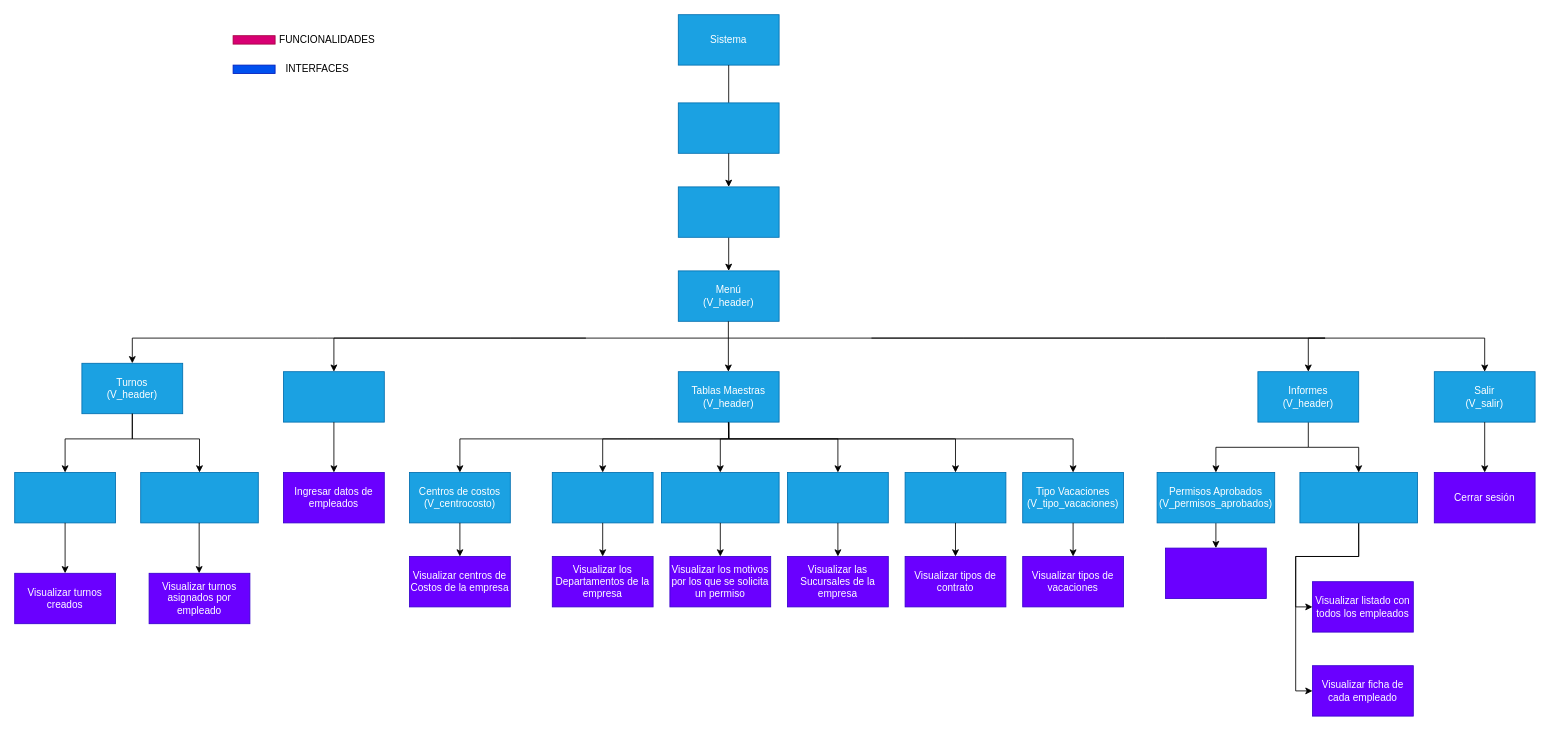
Image size: 1550x731. Some labels were removed from this diagram. Here are the shapes that lost their labels. From the top down, the centre of each, then its label:
point 728,127: Iniciar sesión (V_Index)
point 728,211: Dashboard (V_dashboard)
point 333,396: Ingreso Empleado (V_Ingreso_empleado)
point 65,497: Listado de turnos (V_listadoturnos)
point 199,497: Asignación de turnos (V_asignacion_turnos)
point 602,497: Departamentos (V_departamento)
point 720,497: Motivos de permiso (V_motivo_permisos)
point 837,497: Sucursal (V_sucursal)
point 955,497: Tipo Contratos (V_tipo_contrato)
point 1358,497: Fichas De Empleados (V_ficha_empleados)
point 1215,572: Visualizar listado de permisos otorgados
